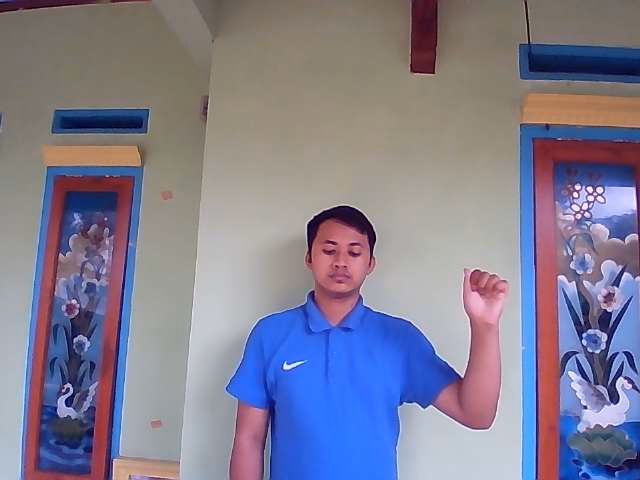A: (460, 267, 508, 324)
